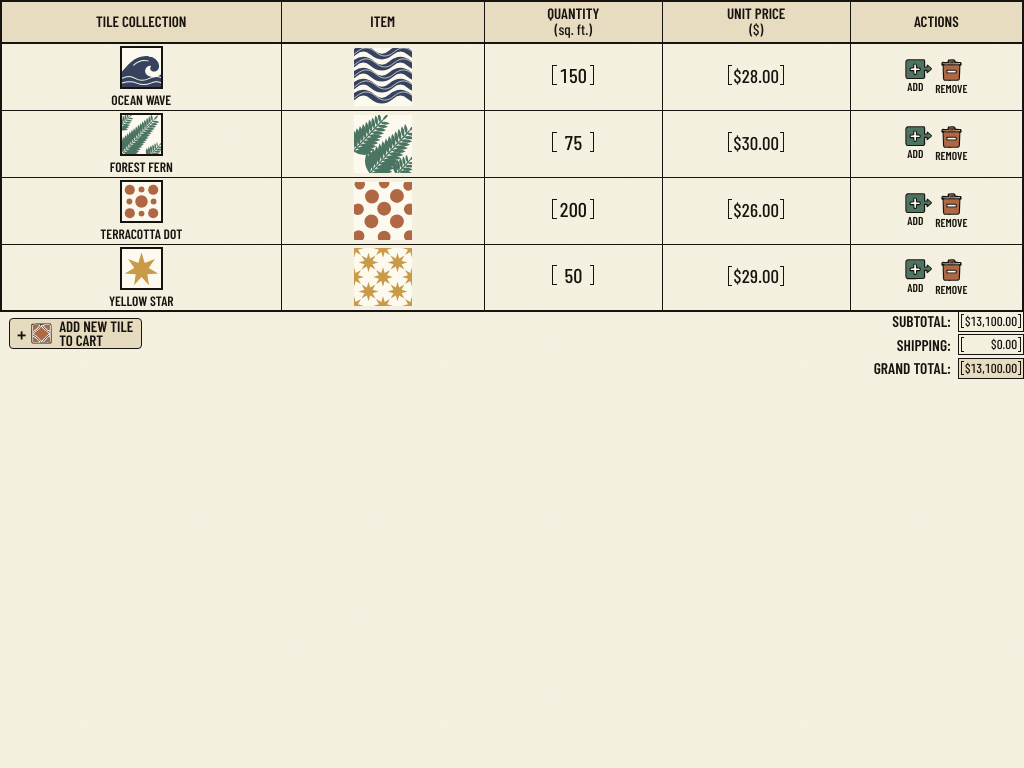
<CartPanel /> › adds a new tile from the picker
This screenshot has width=1024, height=768.
What coordinates should you click on to do the following:
click the button "+ Add new tileto cart"
I would click on:
 (76, 334)
Its box is [9,318,142,349].
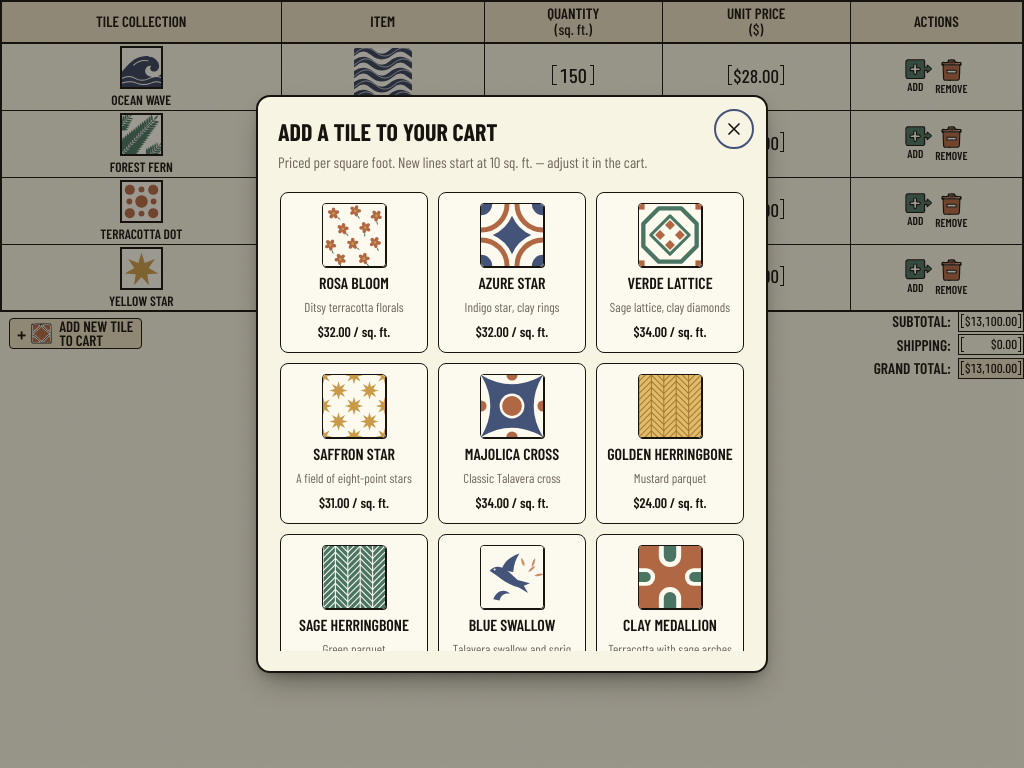
What coordinates should you click on to do the following:
click the button "Azure Star Indigo star, clay rings $32.00 / sq. ft."
I would click on:
 (512, 272)
Its box is [438,192,586,353].
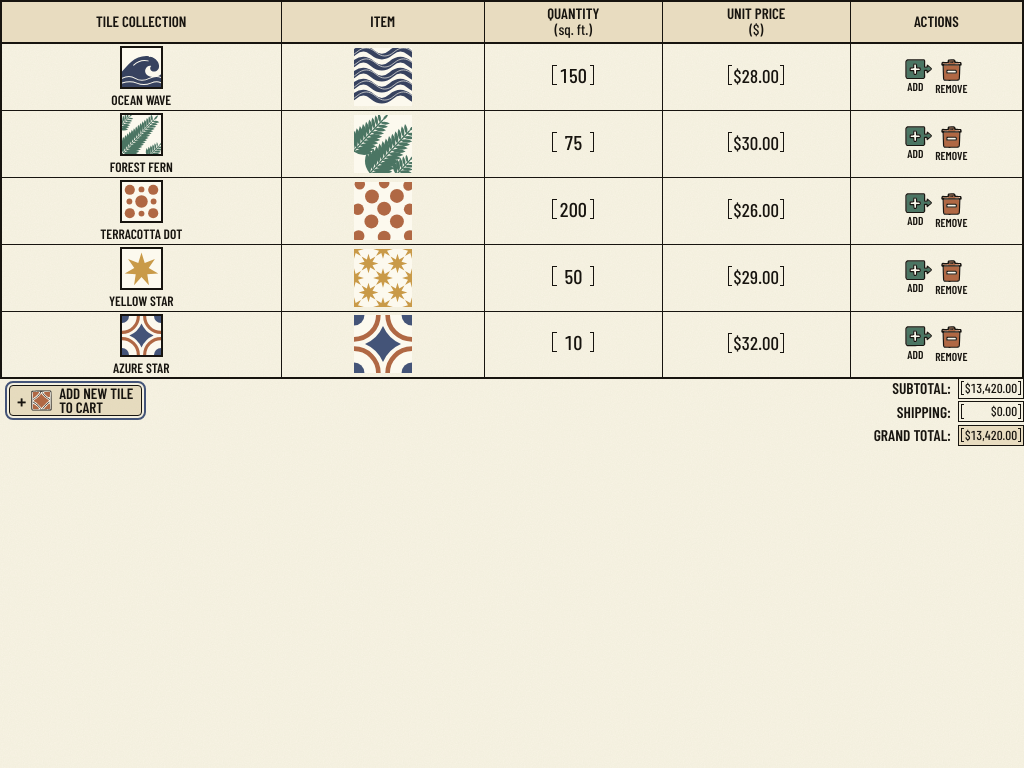
Result: the field named "Azure Star quantity, square feet" holds "10" at [558,330,588,354]
